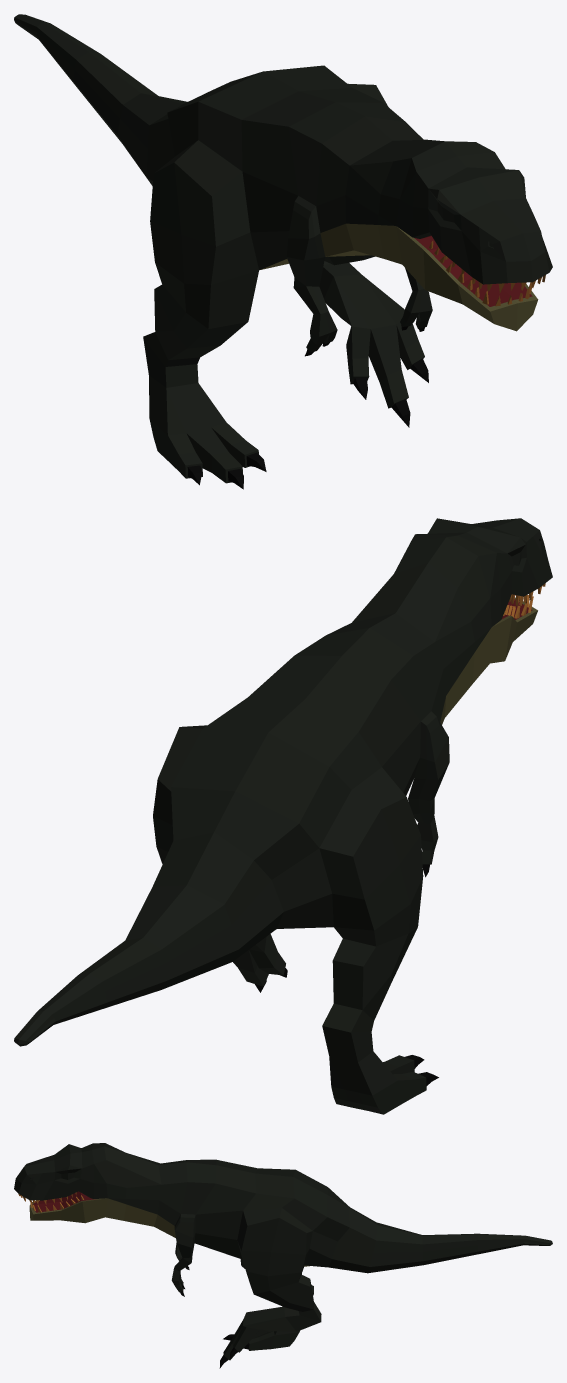
Rendered from Trex_000025.obj.
3 renders of one model, top to bottom at view 1: azimuth 30°, elevation 25°; view 2: azimuth 150°, elevation 25°; view 3: azimuth 270°, elevation 25°, orthographic. The views are drawn at different scales.
Parts seen in each view (by area): view 1: Trex_Cylinder; view 2: Trex_Cylinder; view 3: Trex_Cylinder.
Part boxes in pixels (left/top/right/bottom): Trex_Cylinder: left=14, top=14, right=552, bottom=489; Trex_Cylinder: left=14, top=518, right=552, bottom=1114; Trex_Cylinder: left=14, top=1143, right=552, bottom=1368.
Size of the model in its own units: 7.96 by 14 by 31.41.
